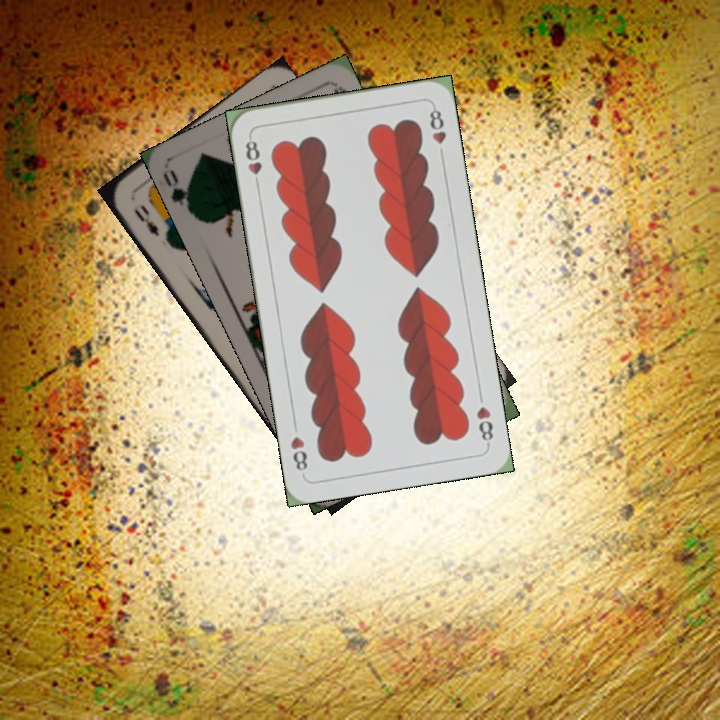EO: (128, 200, 162, 239)
GO: (158, 166, 198, 220)
H8: (241, 132, 265, 191), (472, 402, 496, 448)
